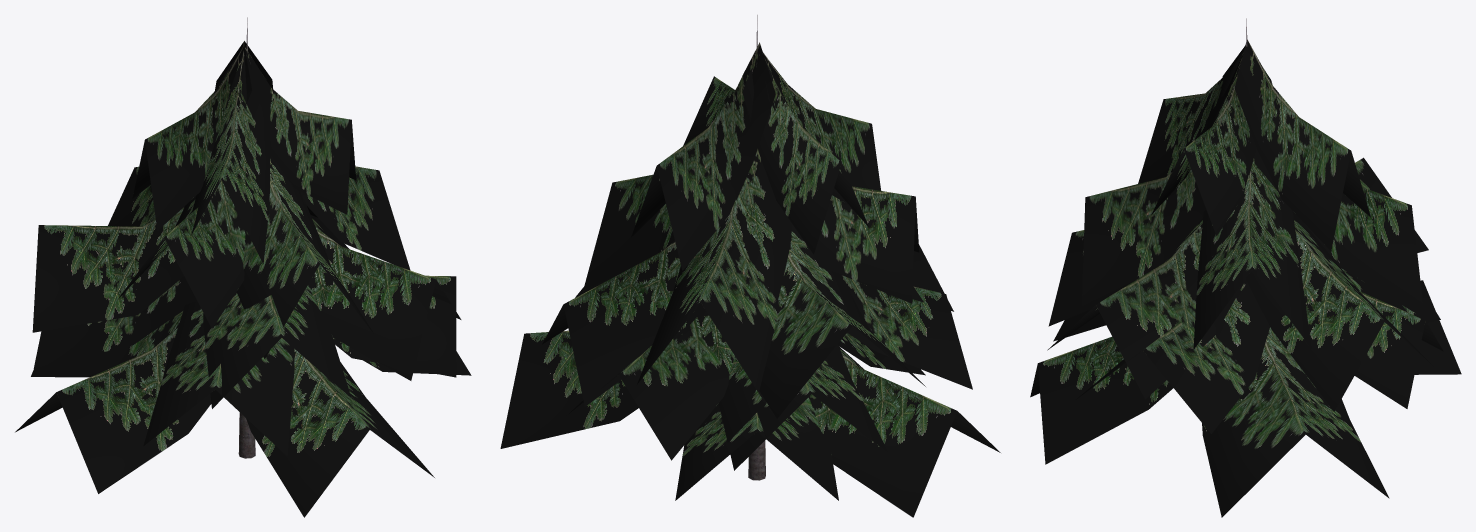
The model's file is tree.obj.
3 views of the same model, side by side, from view 1: azimuth 30°, elevation 25°; view 2: azimuth 150°, elevation 25°; view 3: azimuth 270°, elevation 25° (orthographic). The views are drawn at different scales.
Parts seen in each view (by area): view 1: AbiesBalsamica_Fir, AbiesBalsamica_Fir.001; view 2: AbiesBalsamica_Fir, AbiesBalsamica_Fir.001; view 3: AbiesBalsamica_Fir.
Part boxes in pixels (bbox=[...]): AbiesBalsamica_Fir: bbox=[15, 41, 471, 517]; AbiesBalsamica_Fir.001: bbox=[238, 17, 255, 458]; AbiesBalsamica_Fir: bbox=[500, 42, 1000, 517]; AbiesBalsamica_Fir.001: bbox=[748, 15, 765, 480]; AbiesBalsamica_Fir: bbox=[1030, 39, 1461, 517].
Bounding box in the file's own units: 8.86 × 9.27 × 8.28.
